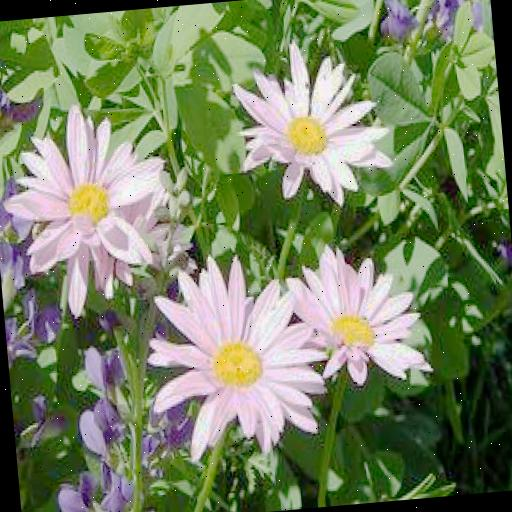daisy: (154, 266, 318, 442), (10, 126, 164, 290), (240, 60, 378, 188), (300, 250, 422, 388)
